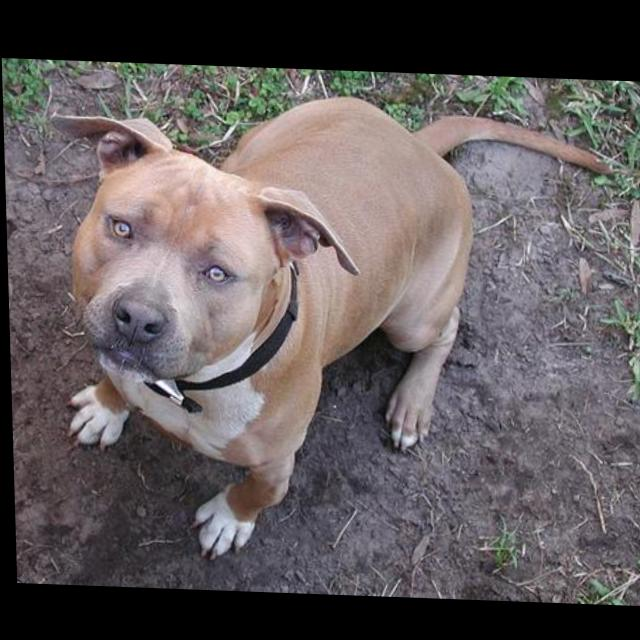amstaff: (52, 82, 629, 571)
